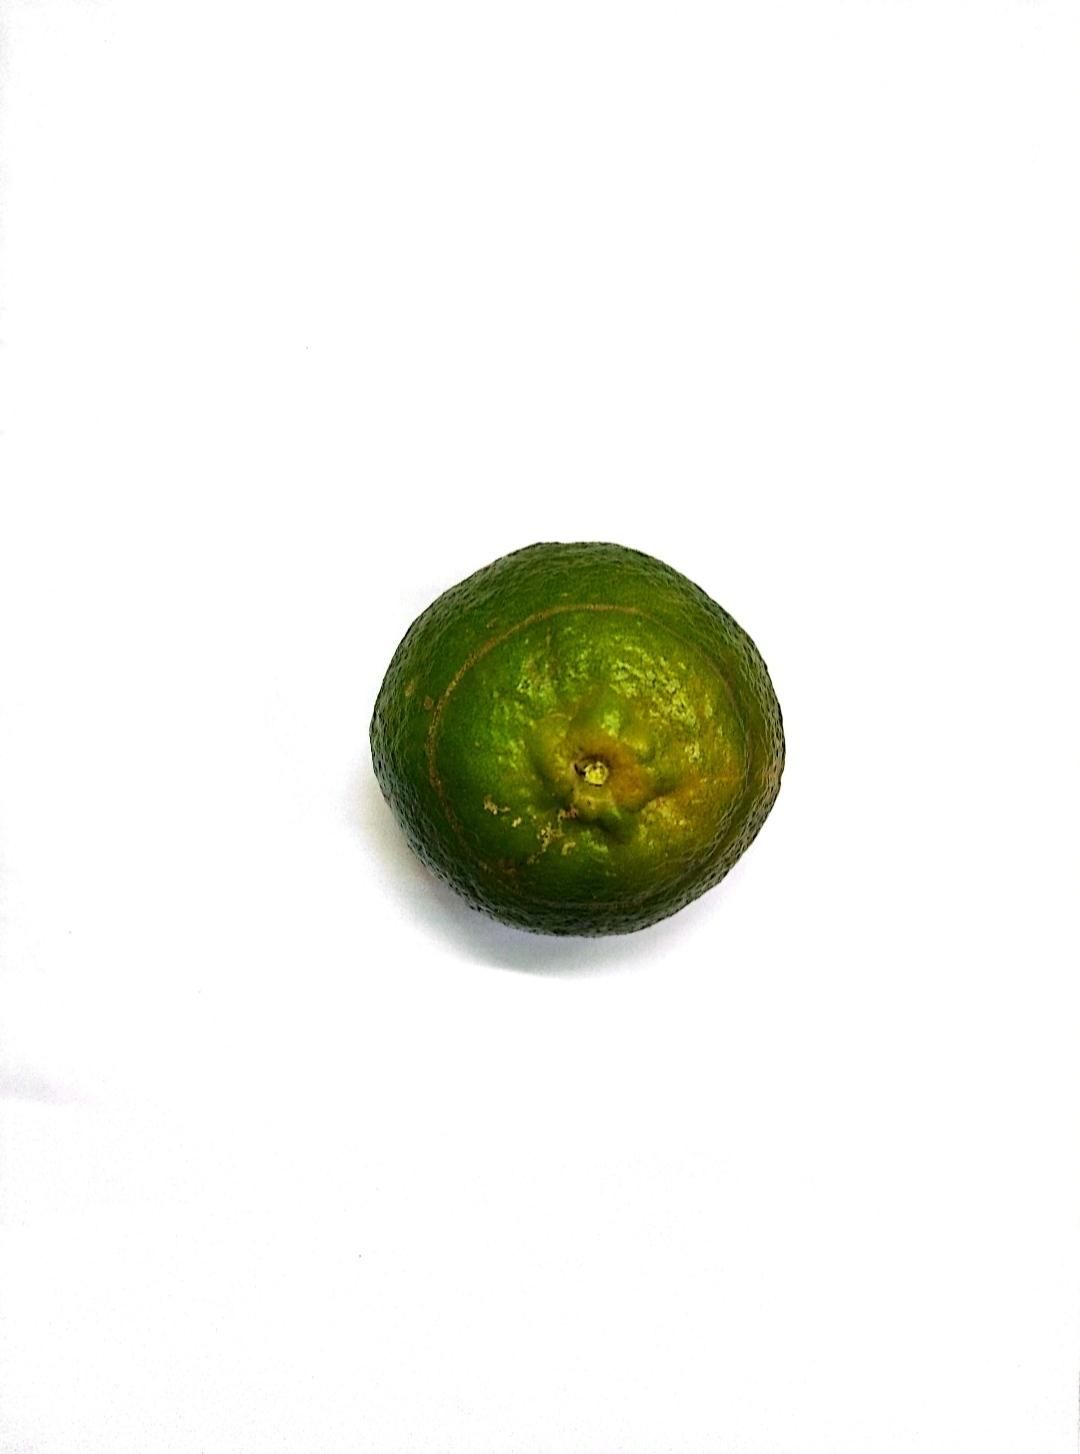Unripe: (370, 547, 777, 923)
